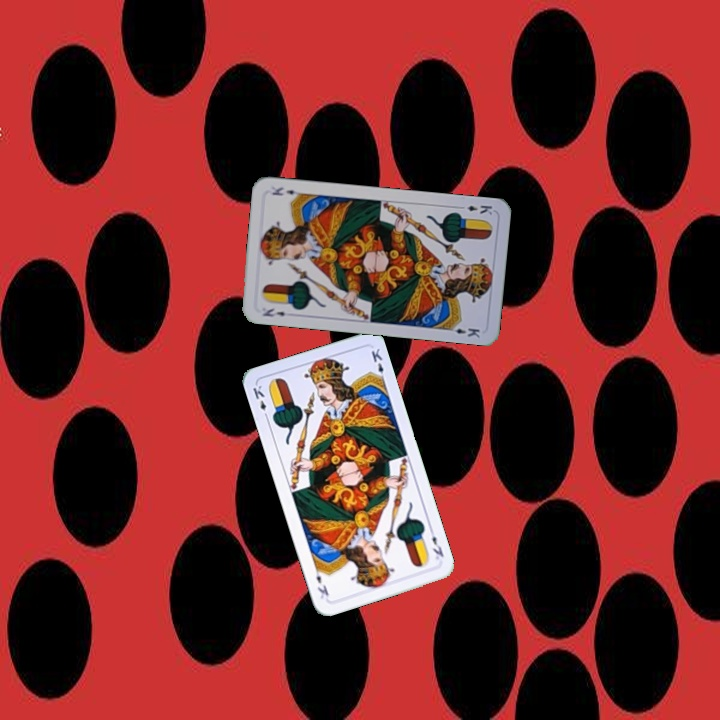EK: (249, 381, 271, 422), (425, 524, 446, 562), (454, 201, 495, 218), (259, 304, 287, 319)
